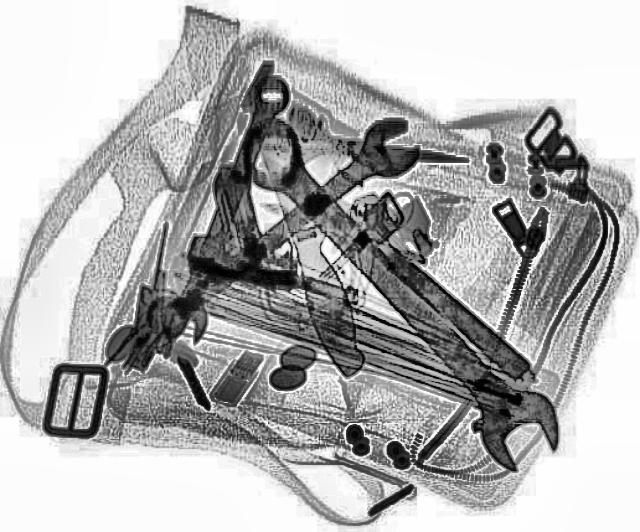Gun: (173, 160, 394, 312)
Knife: (304, 178, 534, 380), (233, 90, 379, 380), (276, 102, 476, 180)
Wrench: (214, 105, 584, 475), (127, 108, 439, 346), (143, 70, 304, 348)
